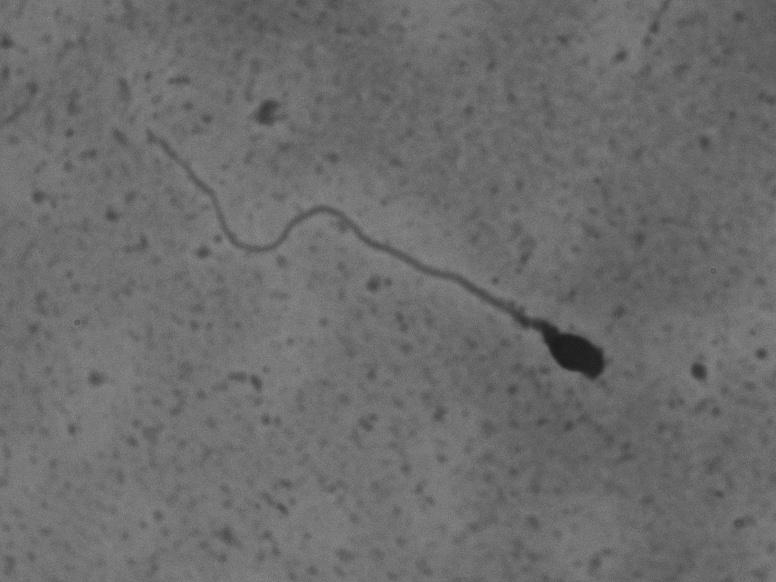Abnormal: (122, 103, 678, 380)
